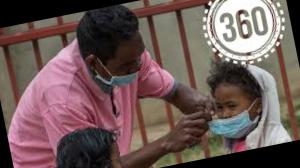mask_weared_incorrect: (214, 92, 250, 133), (115, 46, 150, 88)
without_mask: (112, 145, 128, 166)
